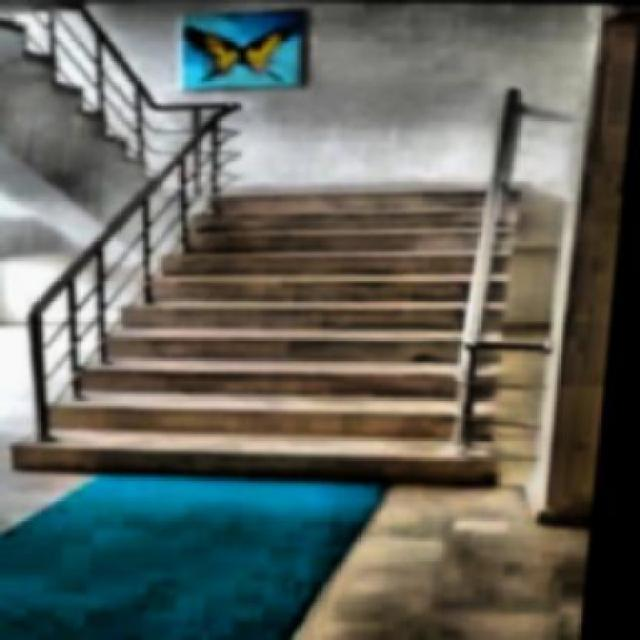stair: (32, 187, 530, 476)
